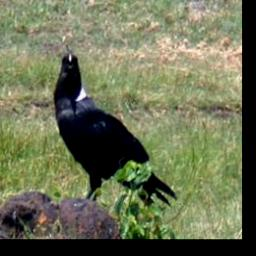Crow: (51, 50, 179, 212)
